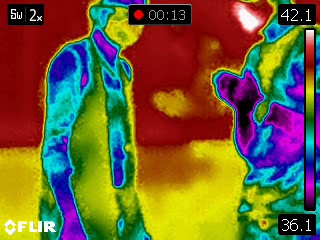human: (45, 1, 155, 240), (213, 1, 320, 240)
